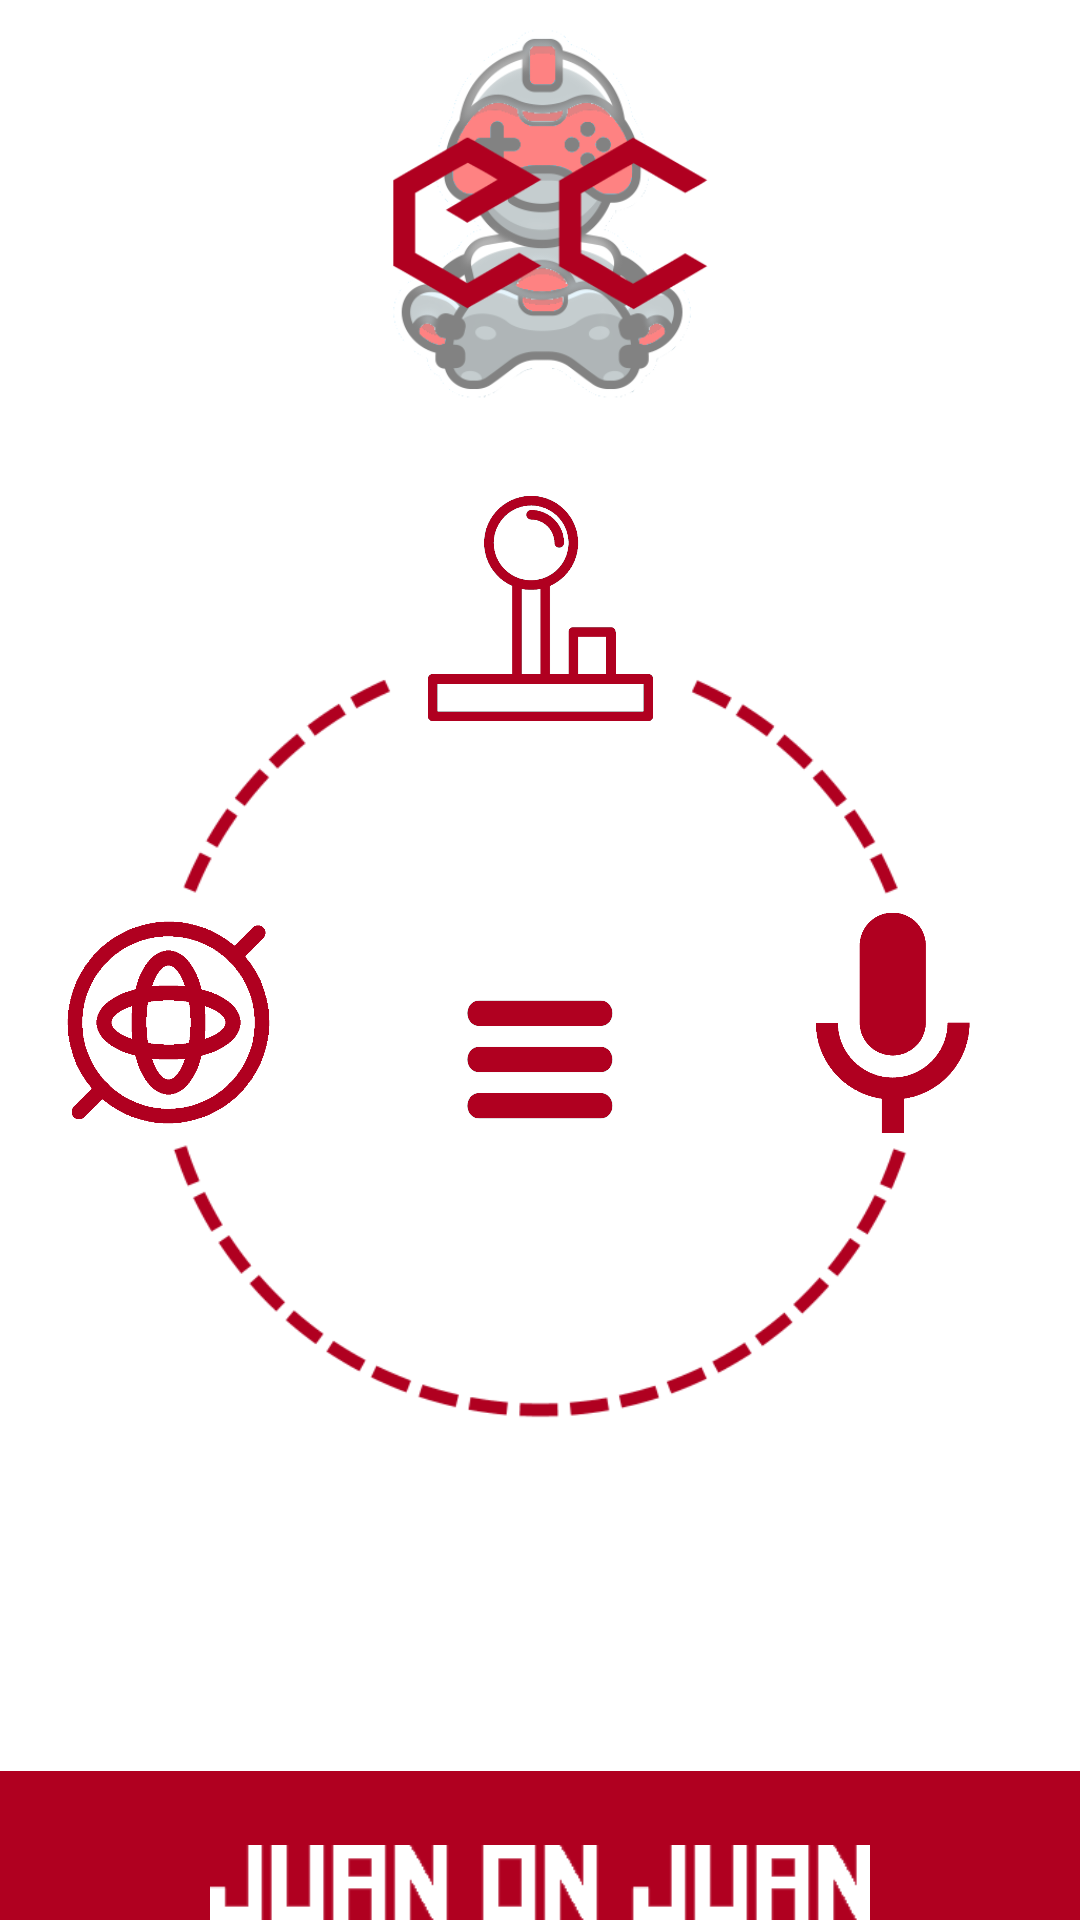

Screen size 1080w x 1920h. Icon name, then its center in pixels as [x,y]:
icogyrored: [168,1022]
icojoystickred: [540,608]
icomenured: [540,1059]
icomicred: [893,1023]
